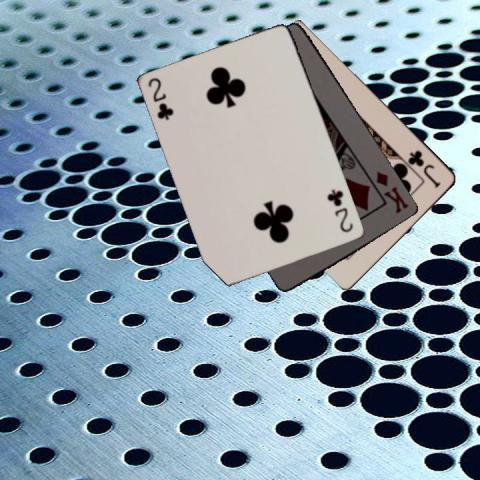2c: (324, 186, 355, 234), (146, 75, 176, 121)
Jc: (406, 147, 443, 190)
Kd: (373, 168, 411, 215)
